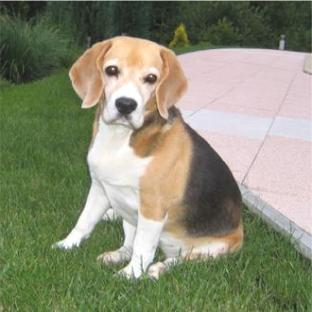Animal: (57, 37, 244, 277)
